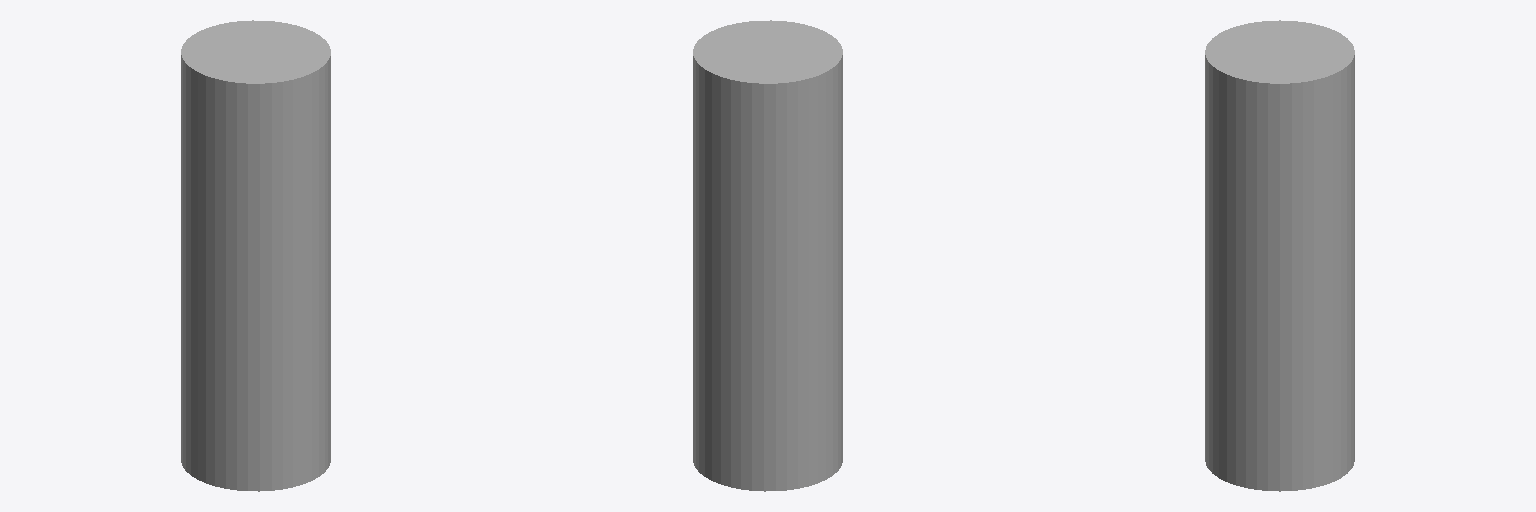
robot.urdf — assemble_part_1:
<?xml version="1.0" ?>
<robot name="assemble_part_1">
  <!-- Define a simple part that references the STL file -->
  
  <link name="base_link">
    <!-- Visual representation -->
    <visual>
      <geometry>
        <mesh filename="./2.stl" scale="1.0 1.0 1.0"/>
      </geometry>
      <material name="silver">
        <color rgba="0.75 0.75 0.75 1.0"/>
      </material>
      <origin xyz="-25.0 -25.0 0.0" rpy="0.0 0.0 0.0"/>
    </visual>

    <!-- Inertial properties -->
    <inertial>
      <mass value="1.0"/>
      <inertia ixx="0.1" ixy="0.0" ixz="0.0" iyy="0.1" iyz="0.0" izz="0.1"/>
      <origin xyz="0.0 0.0 0.0" rpy="0.0 0.0 0.0"/>
    </inertial>
  </link>

</robot>

--- What the picture shows (computed from the rendered views, not written in the file) ---
Views: 3 orthographic renders of the robot side by side, from view 1: azimuth 30°, elevation 25°; view 2: azimuth 150°, elevation 25°; view 3: azimuth 270°, elevation 25°.
Model assemble_part_1 with 1 links and 0 joints (none), rooted at base_link, posed every joint at zero.
Visible links, largest first — view 1: base_link; view 2: base_link; view 3: base_link.
Link boxes in pixels (<box>): base_link: <box>181,20,330,491</box>; base_link: <box>693,20,842,491</box>; base_link: <box>1205,20,1354,491</box>.
Bounding box of the posed robot: 50 × 50 × 150 m (x, y, z).
Meshes: 1 distinct files referenced, 1 mesh visuals loaded (1 binary STL).